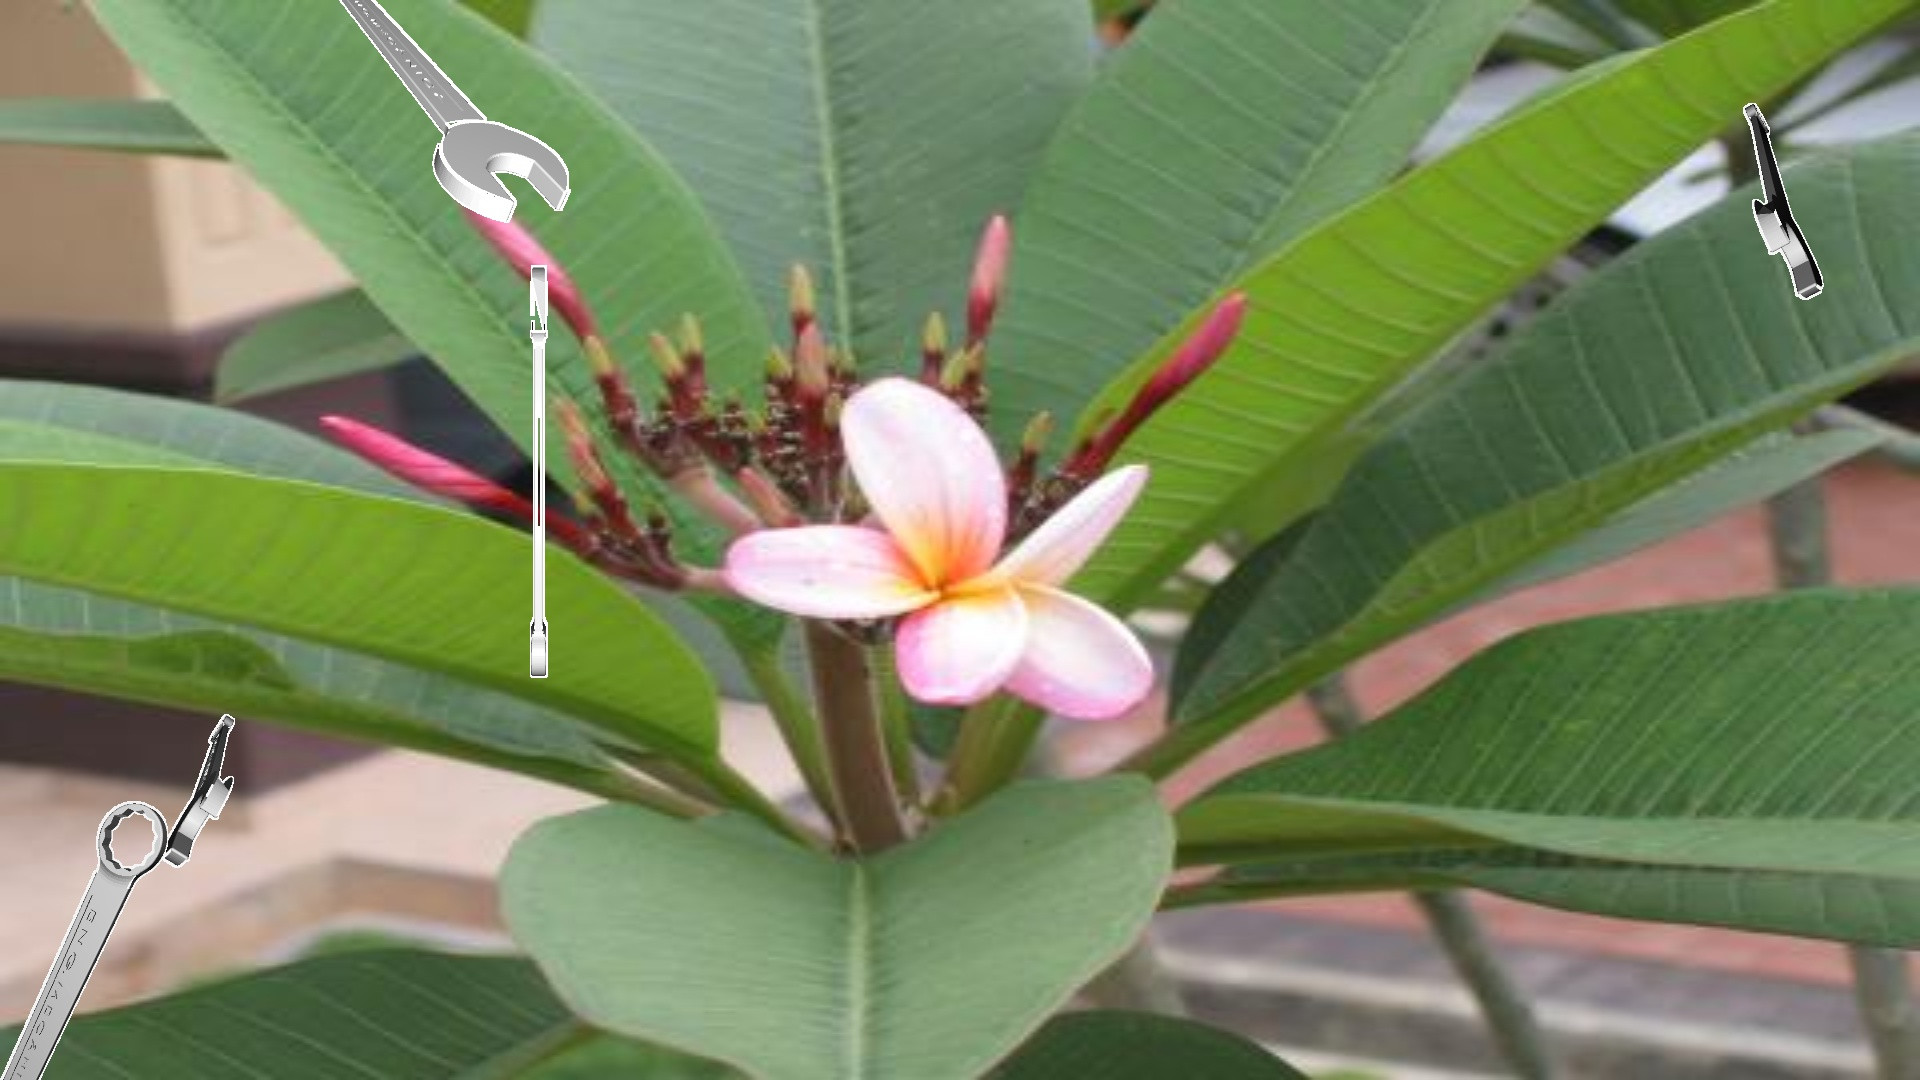Mixed Key: (339, 0, 570, 222), (0, 800, 167, 1079), (1743, 103, 1822, 299), (164, 713, 233, 866), (530, 265, 547, 676)
